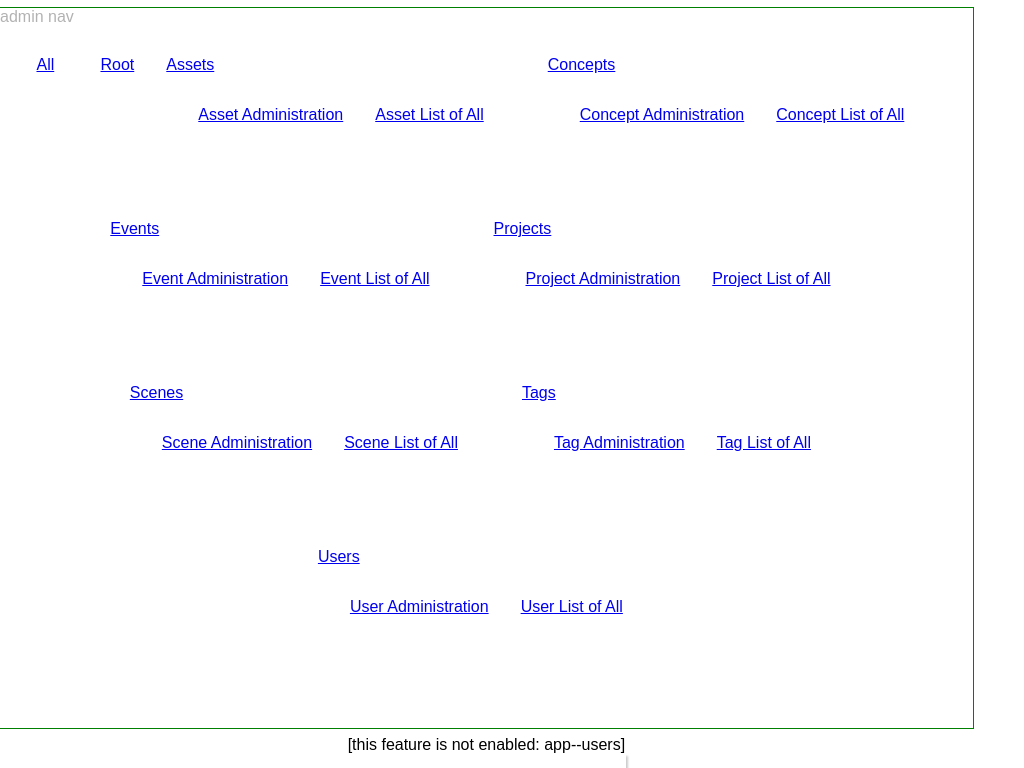
Admin Features Are Grounded › Has a link to Assets; Asset Features Are Not Enabled
Click the link "Assets" at [190, 65], box [166, 56, 214, 73]
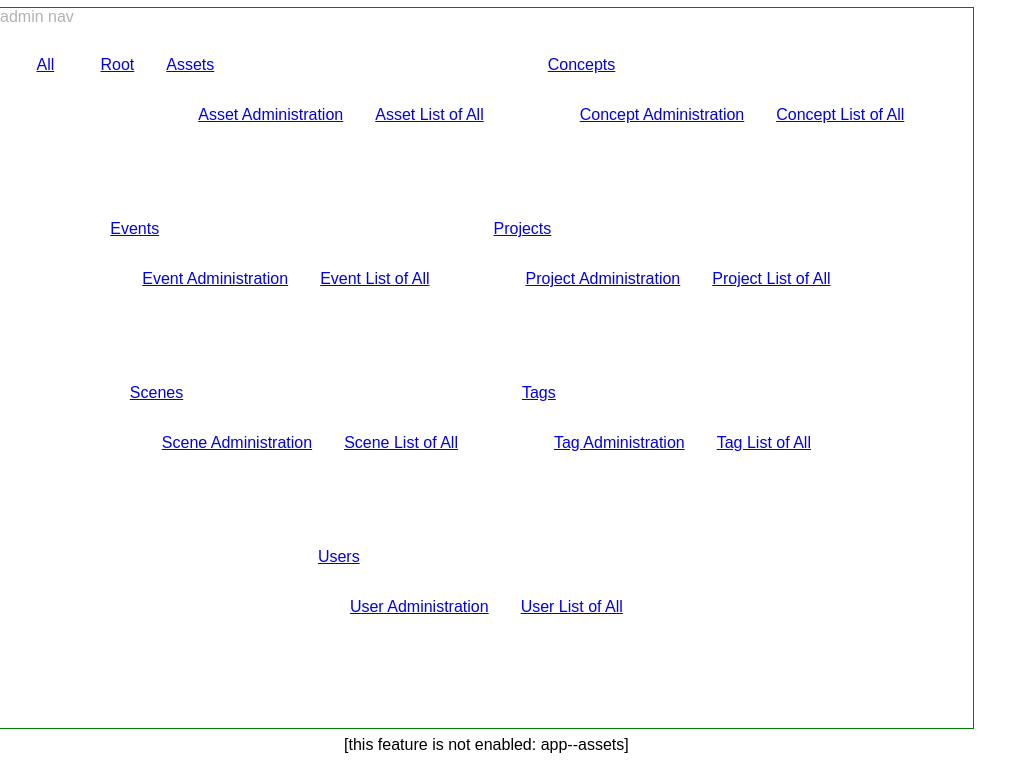
Expected: the text "[this feature is not enabled: app--assets]" is shown
